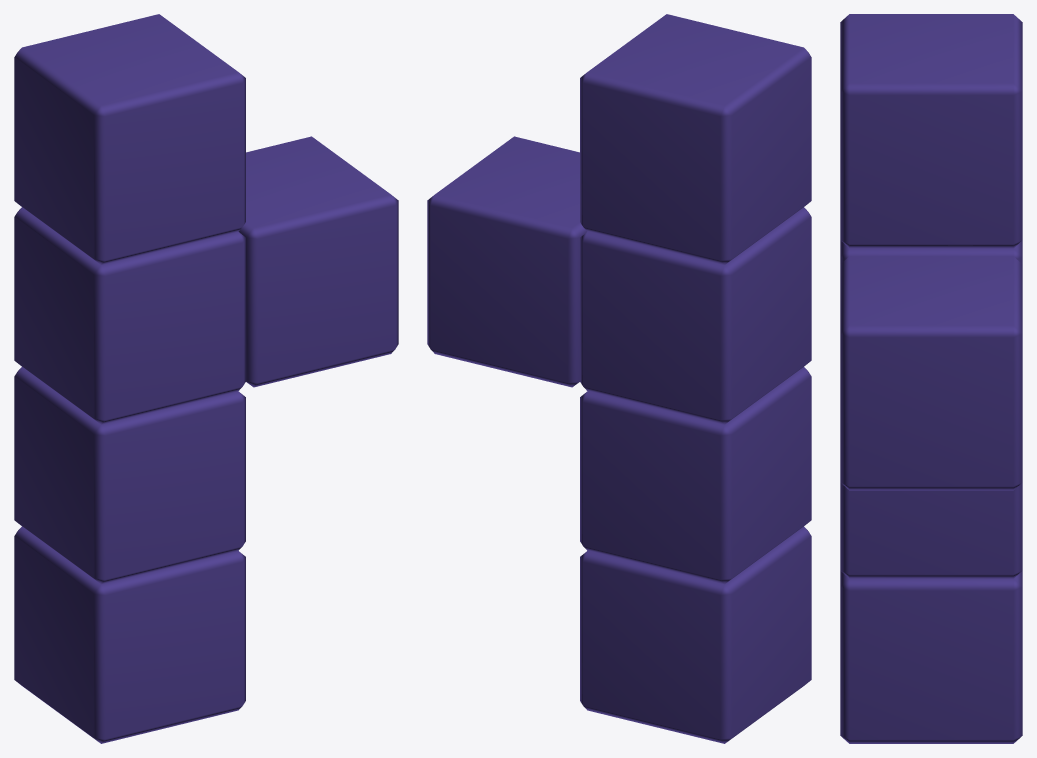
The model's file is finOcean5.fbx.
3 views of the same model, side by side, from view 1: azimuth 30°, elevation 25°; view 2: azimuth 150°, elevation 25°; view 3: azimuth 270°, elevation 25° (orthographic). The views are drawn at different scales.
Parts seen in each view (by area): view 1: geo1; view 2: geo1; view 3: geo1.
Boxes of the visible parts, bbox=[...] form: geo1: bbox=[14, 14, 398, 743]; geo1: bbox=[427, 14, 811, 743]; geo1: bbox=[840, 14, 1022, 743].
Bounding box in the file's own units: 2 × 4 × 1.
